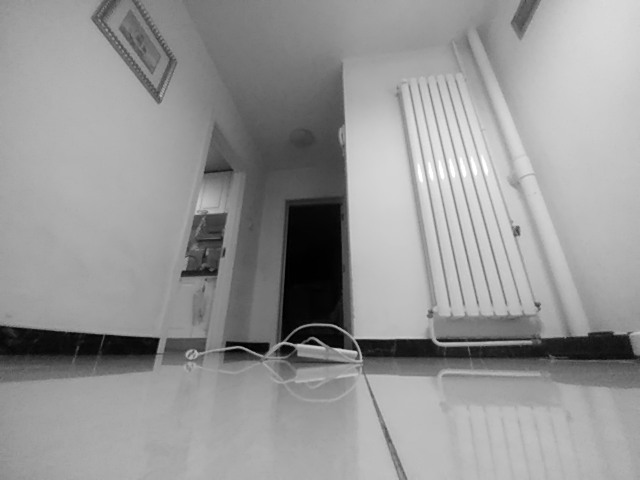power strip: (293, 343, 358, 367)
wire: (185, 330, 293, 364)
